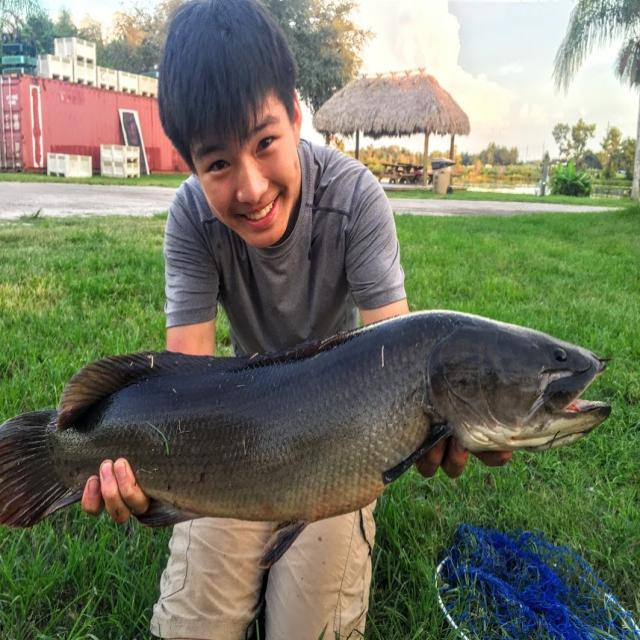Bowfin: (0, 310, 610, 568)
